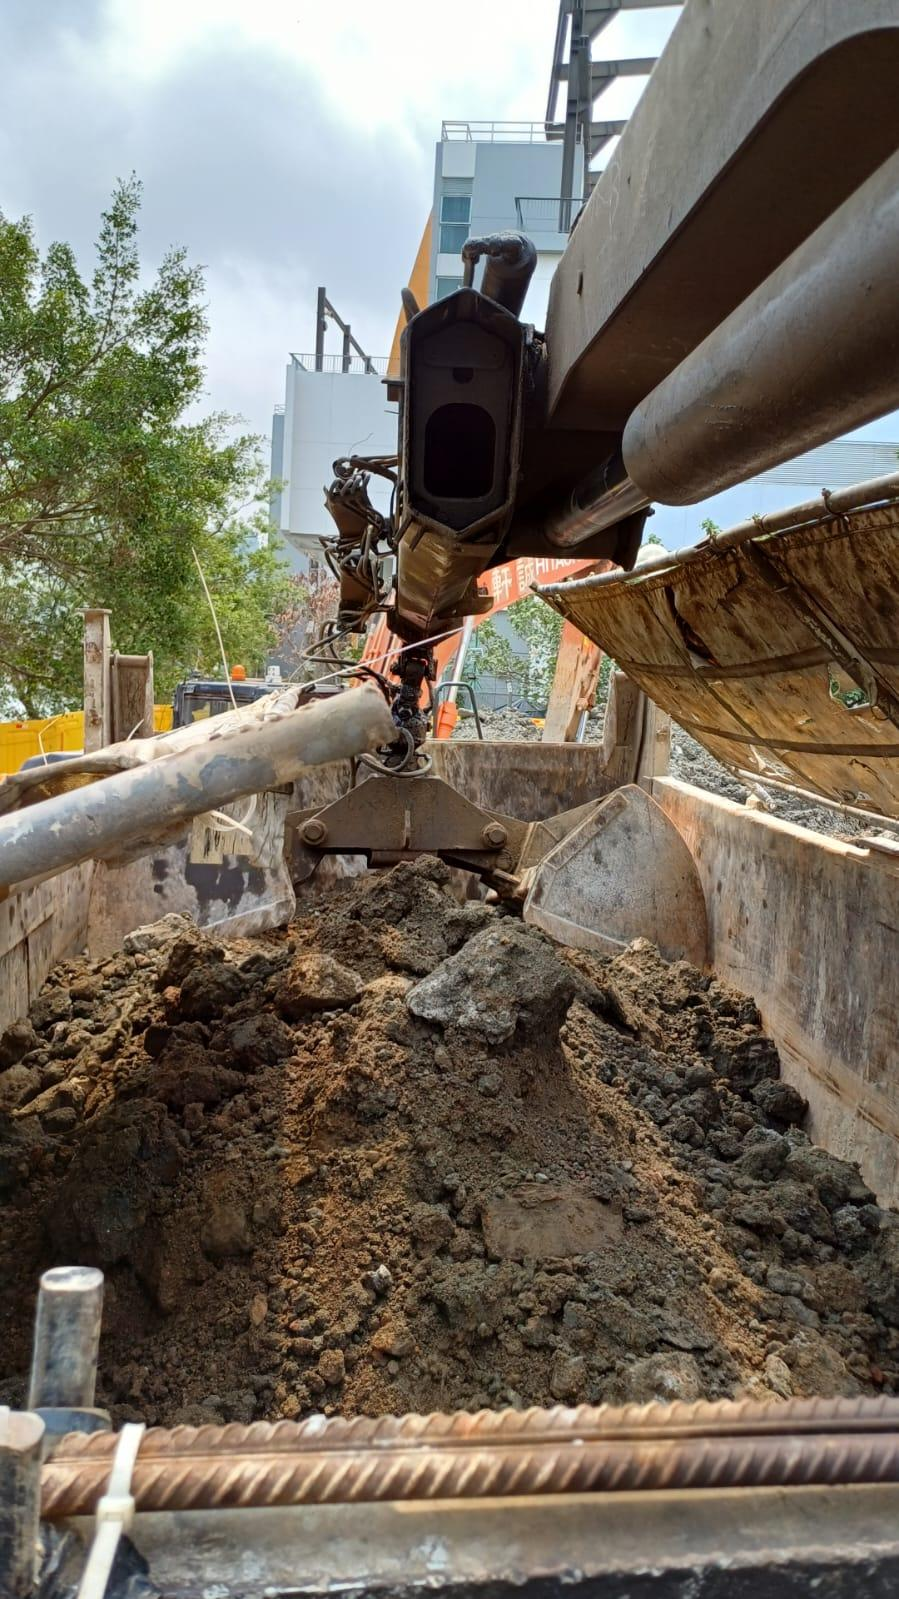dirt: (1, 850, 897, 1425)
stone: (402, 917, 580, 1046)
